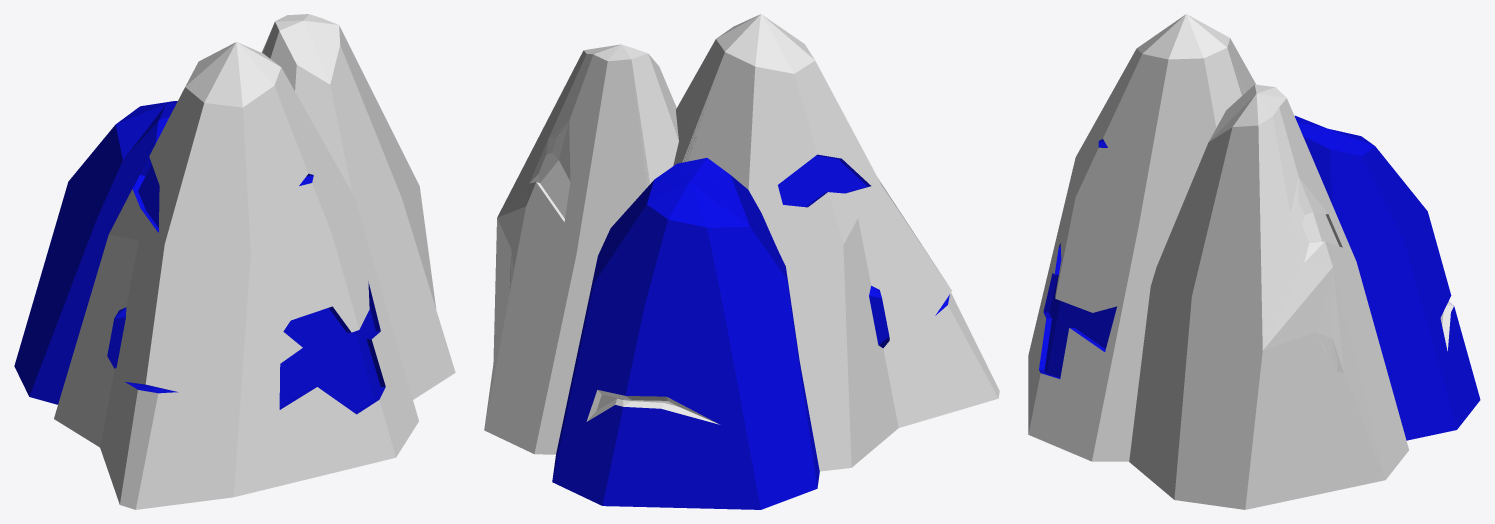
File: largeCrystal.fbx
3 renders of one model, left to right at view 1: azimuth 30°, elevation 25°; view 2: azimuth 150°, elevation 25°; view 3: azimuth 270°, elevation 25°, orthographic.
Visible parts, largest first — view 1: Cube, Cube.003, Cube.001; view 2: Cube.001, Cube, Cube.003; view 3: Cube.003, Cube, Cube.001.
Boxes of the visible parts, bbox=[...] form: Cube: bbox=[54, 42, 418, 509]; Cube.003: bbox=[261, 14, 455, 399]; Cube.001: bbox=[14, 101, 177, 404]; Cube.001: bbox=[552, 158, 819, 509]; Cube: bbox=[673, 14, 999, 471]; Cube.003: bbox=[484, 44, 678, 454]; Cube.003: bbox=[1129, 84, 1408, 509]; Cube: bbox=[1028, 14, 1255, 461]; Cube.001: bbox=[1294, 115, 1480, 440].
Size of the model in its own units: 601 by 532 by 572.
